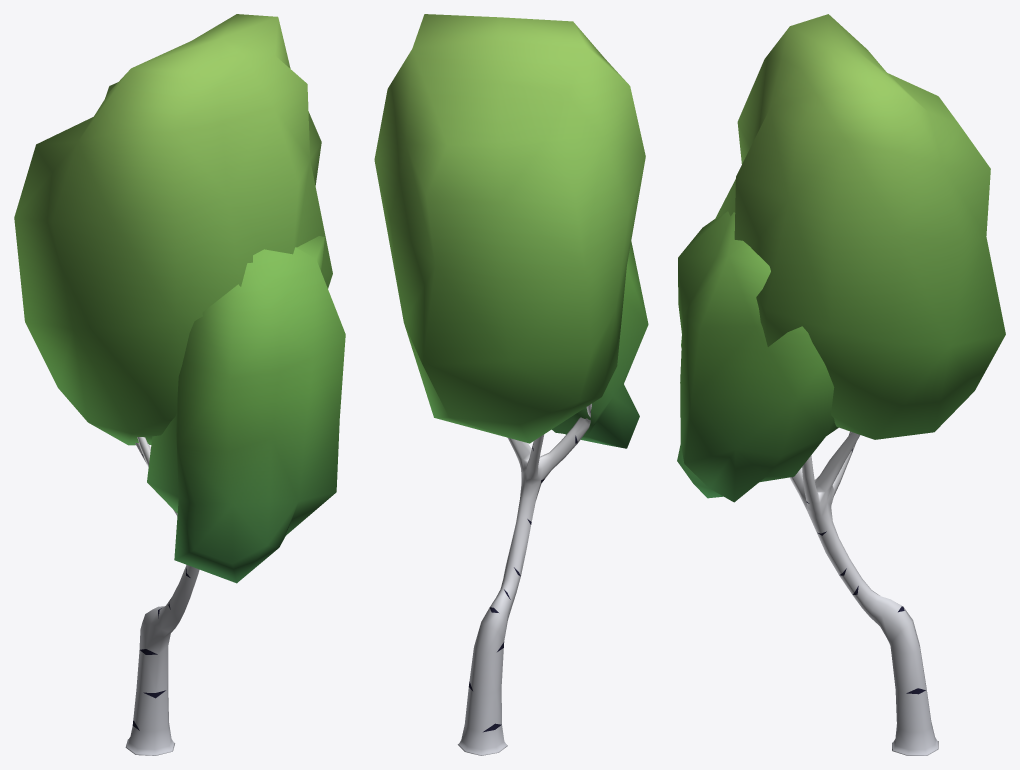
File: BirchTree_2.fbx
3 renders of one model, left to right at view 1: azimuth 30°, elevation 25°; view 2: azimuth 150°, elevation 25°; view 3: azimuth 270°, elevation 25°, orthographic. The views are drawn at different scales.
Parts seen in each view (by area): view 1: BirchTree_2.001, BirchTree_2; view 2: BirchTree_2.001, BirchTree_2; view 3: BirchTree_2.001, BirchTree_2.
Part boxes in pixels (box(x1,y1,x2,y2)): BirchTree_2.001: box(14, 14, 345, 583); BirchTree_2: box(125, 437, 199, 755); BirchTree_2.001: box(374, 14, 648, 448); BirchTree_2: box(457, 403, 591, 755); BirchTree_2.001: box(677, 14, 1005, 502); BirchTree_2: box(789, 431, 938, 755).
Bounding box in the file's own units: 1.47 × 4.03 × 1.69.
